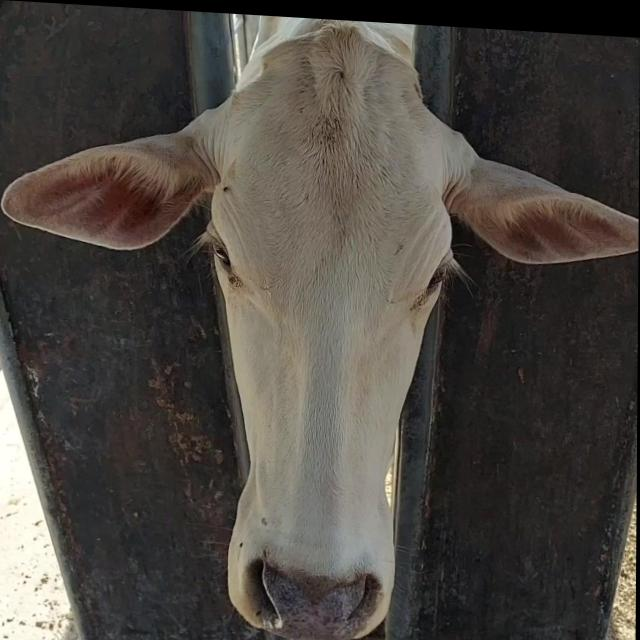cowFace: (201, 26, 457, 640)
